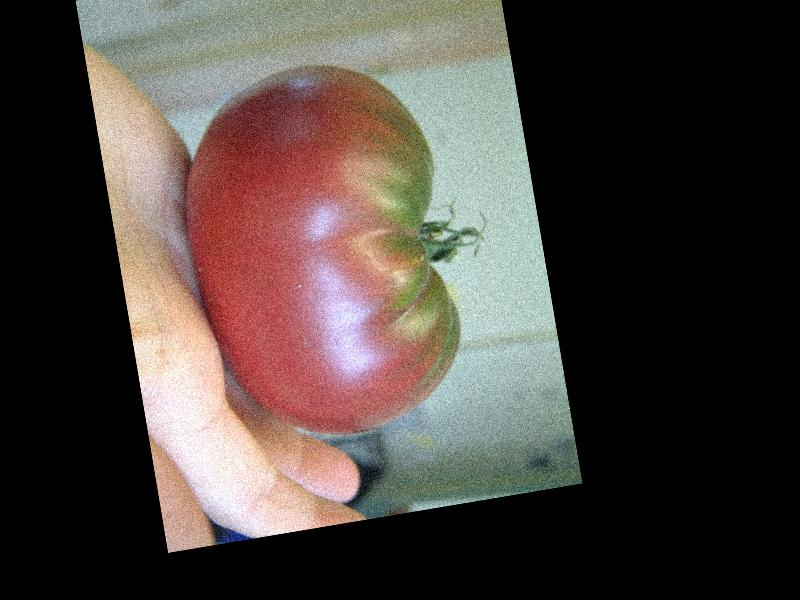Tomato: (164, 47, 475, 454)
